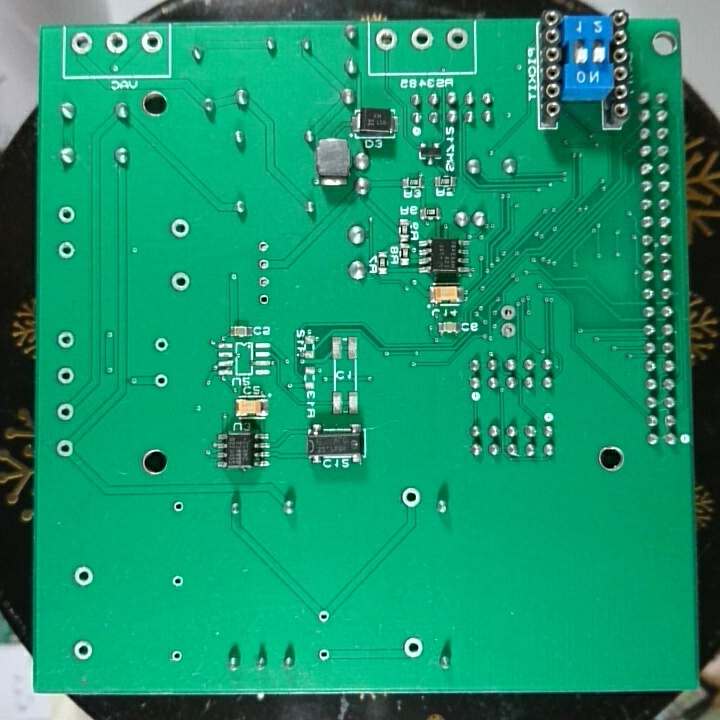F: (68, 29, 97, 59), (102, 28, 130, 57), (69, 562, 98, 589), (408, 26, 436, 53), (445, 25, 470, 55), (401, 635, 427, 662), (373, 26, 400, 52), (69, 638, 97, 663), (139, 28, 164, 55), (168, 215, 192, 243), (52, 400, 78, 425), (53, 436, 77, 461), (53, 363, 78, 387), (398, 485, 422, 509), (168, 269, 193, 292), (54, 328, 77, 351), (54, 239, 78, 261), (55, 203, 77, 226), (498, 320, 518, 340), (151, 335, 171, 355), (314, 607, 334, 626), (151, 372, 171, 391), (499, 300, 517, 321), (315, 646, 334, 665), (254, 238, 274, 255), (169, 498, 187, 516), (168, 572, 185, 591), (168, 646, 184, 666), (257, 289, 271, 309), (255, 274, 271, 290), (256, 257, 272, 272)
